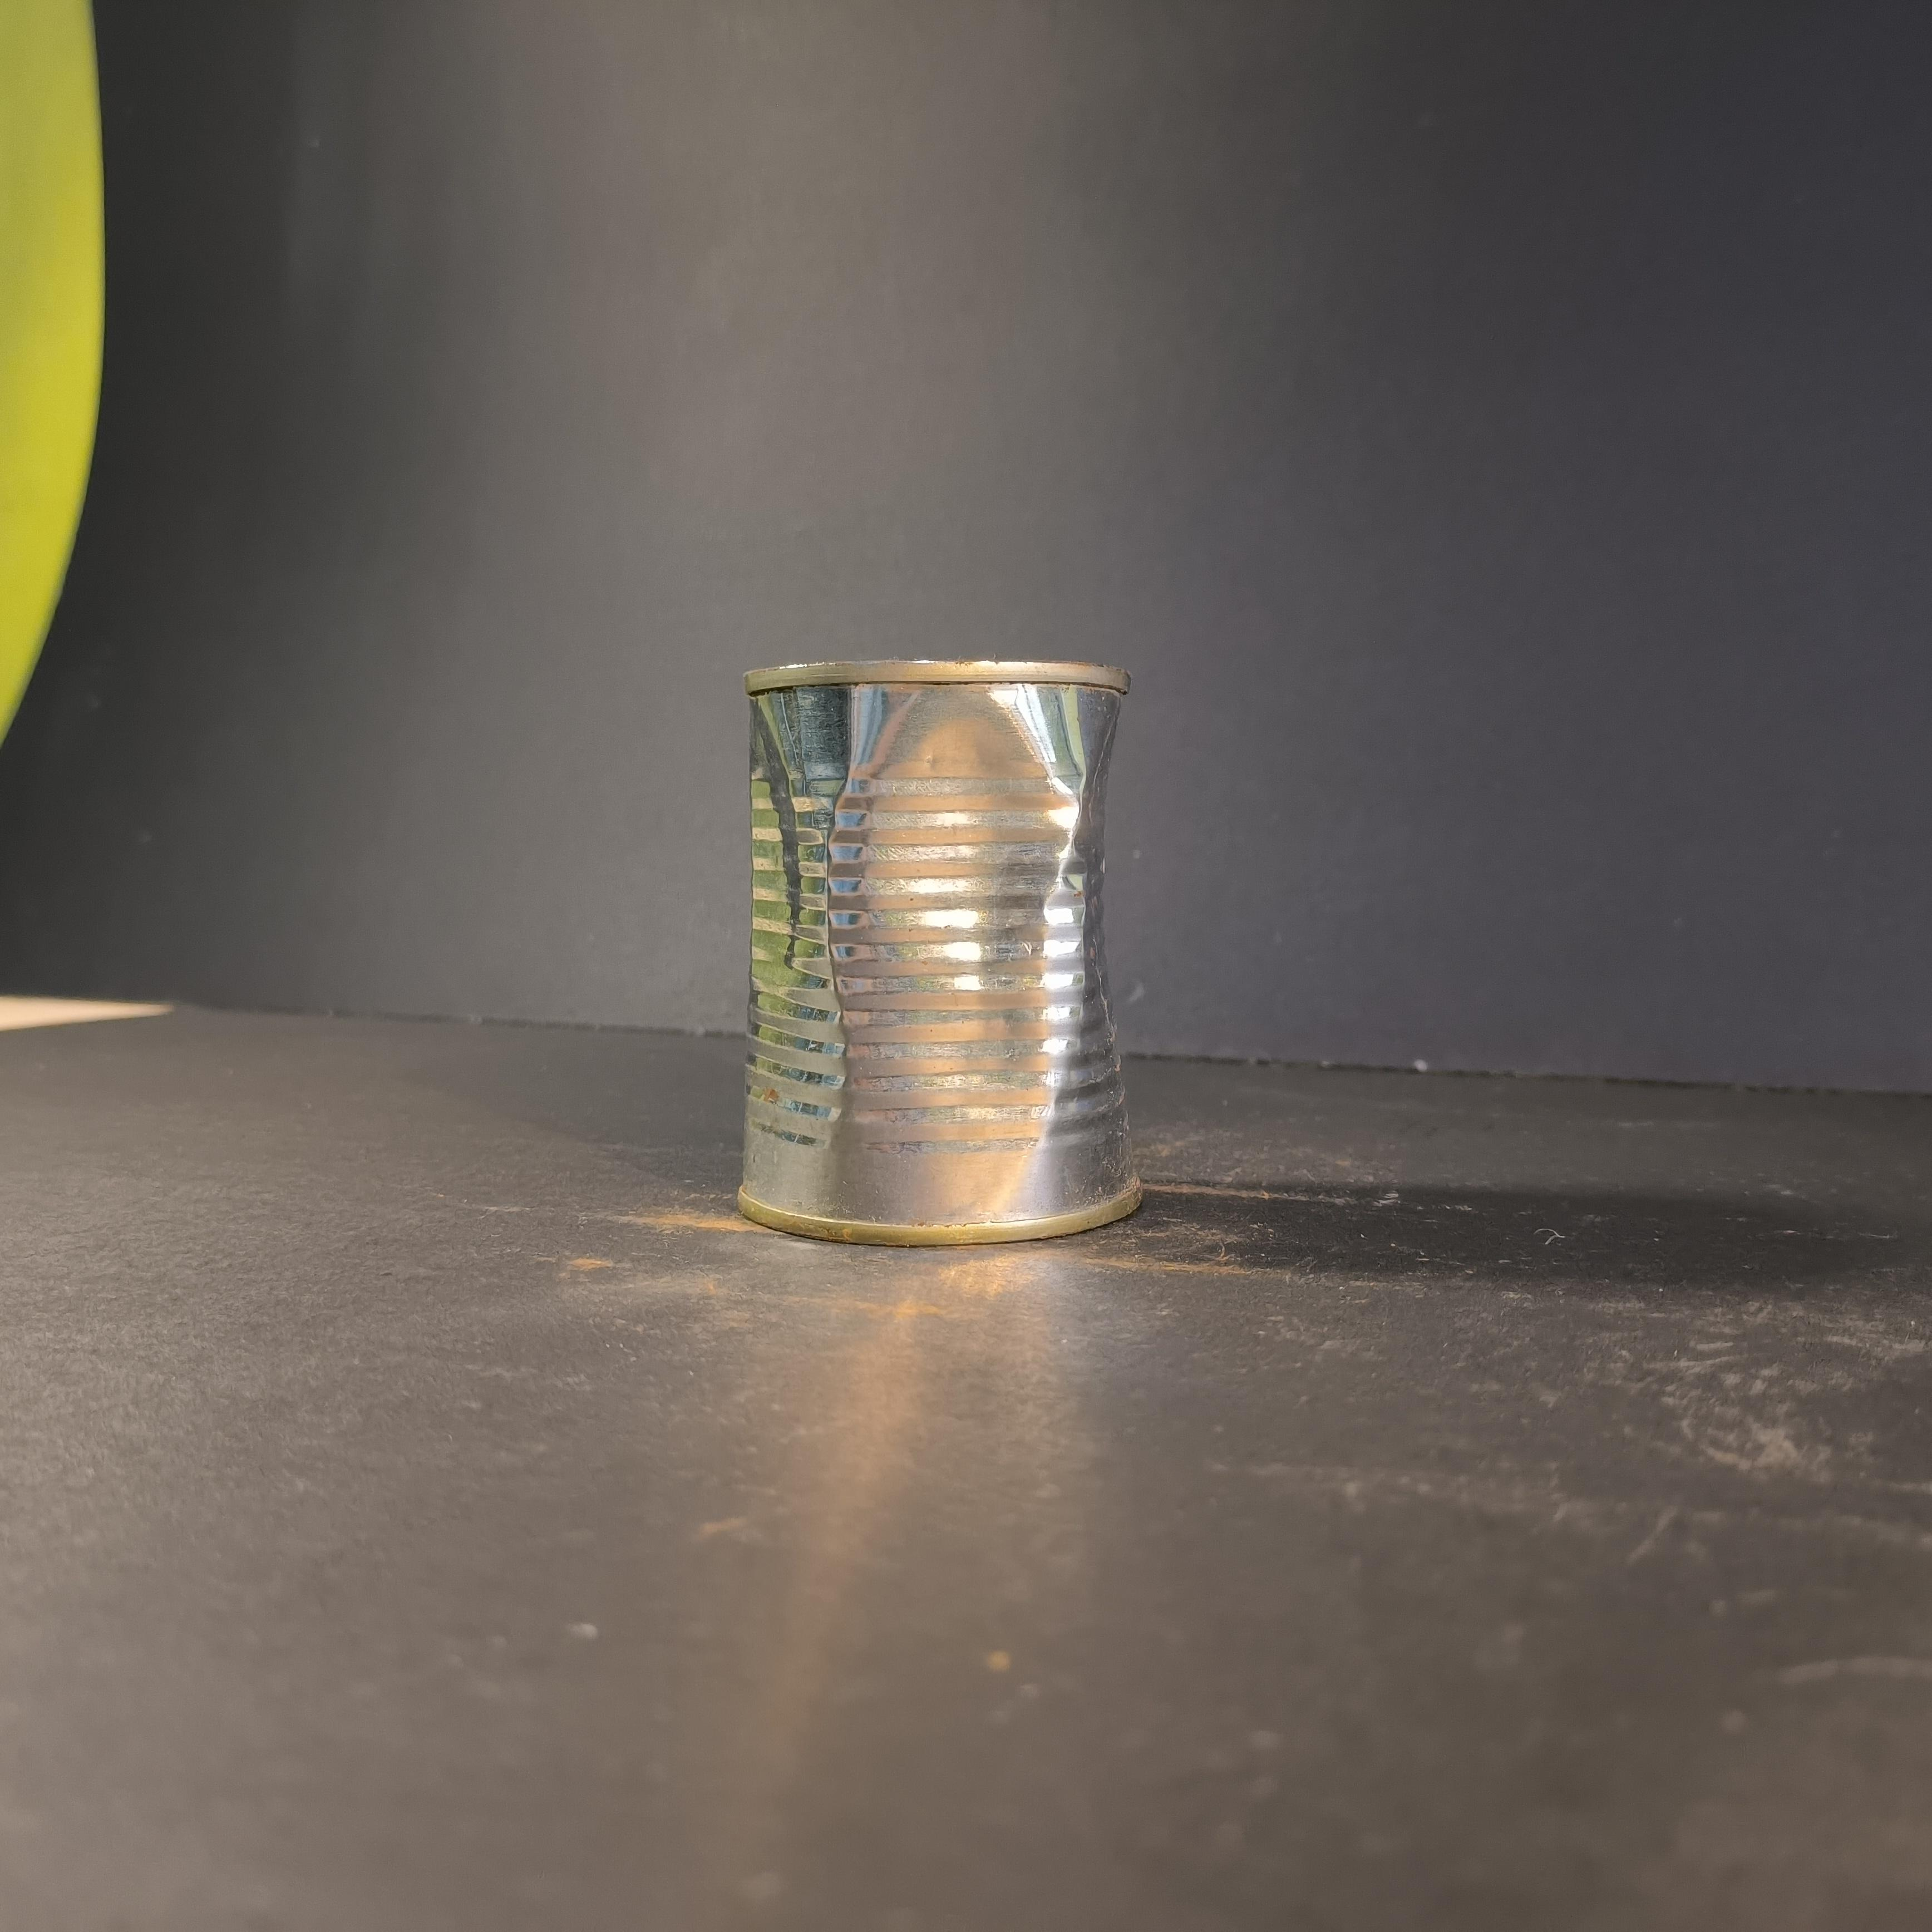Dented: (713, 640, 1182, 1254)
